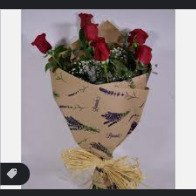RedRose: (76, 14, 108, 40), (26, 34, 60, 58), (85, 41, 116, 60), (127, 30, 152, 48), (136, 50, 158, 67)
